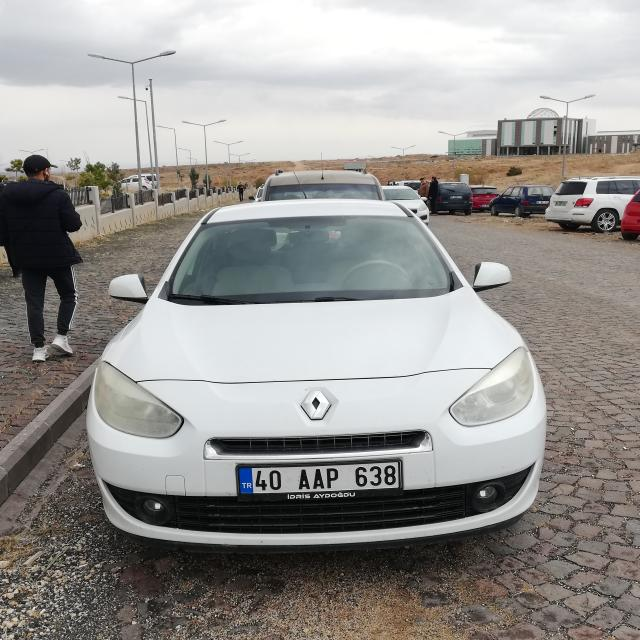license_plate: (237, 462, 403, 492)
